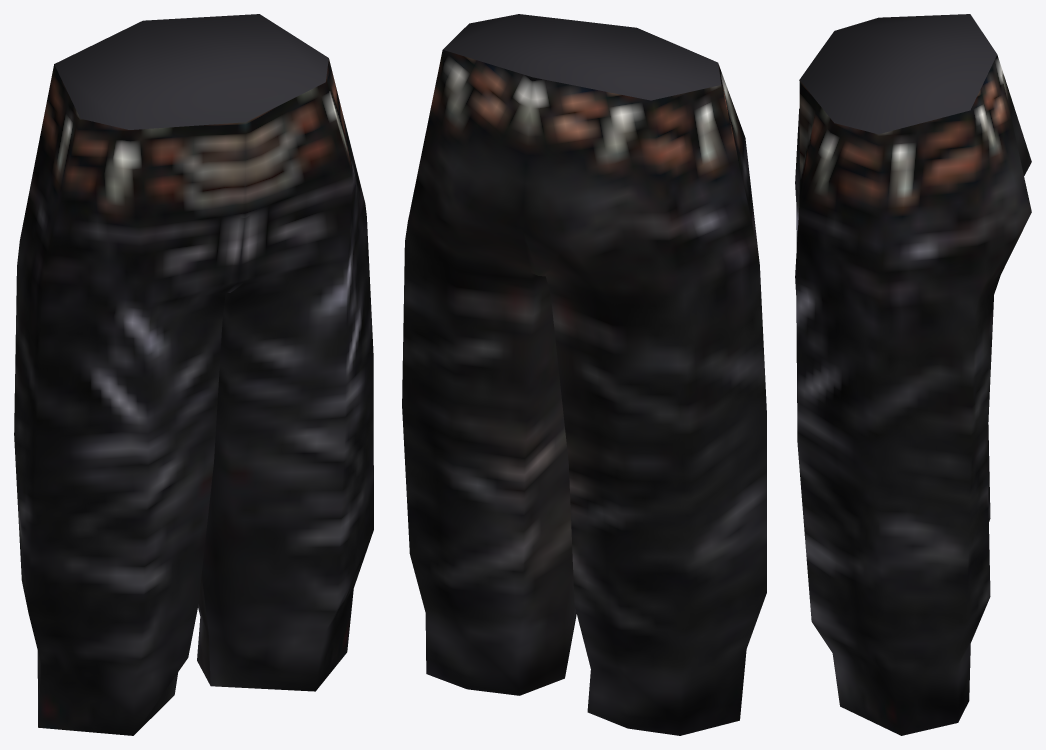
The model's file is pantsdm.gltf.
3 renders of one model, left to right at view 1: azimuth 30°, elevation 25°; view 2: azimuth 150°, elevation 25°; view 3: azimuth 270°, elevation 25°, orthographic. The views are drawn at different scales.
Parts seen in each view (by area): view 1: PantClass304; view 2: PantClass304; view 3: PantClass304.
Part boxes in pixels (bbox=[...]): PantClass304: bbox=[14, 14, 373, 735]; PantClass304: bbox=[402, 14, 766, 735]; PantClass304: bbox=[795, 14, 1031, 735].
Bounding box in the file's own units: 39.42 × 69.15 × 24.34.
1 material, 1 textured.
